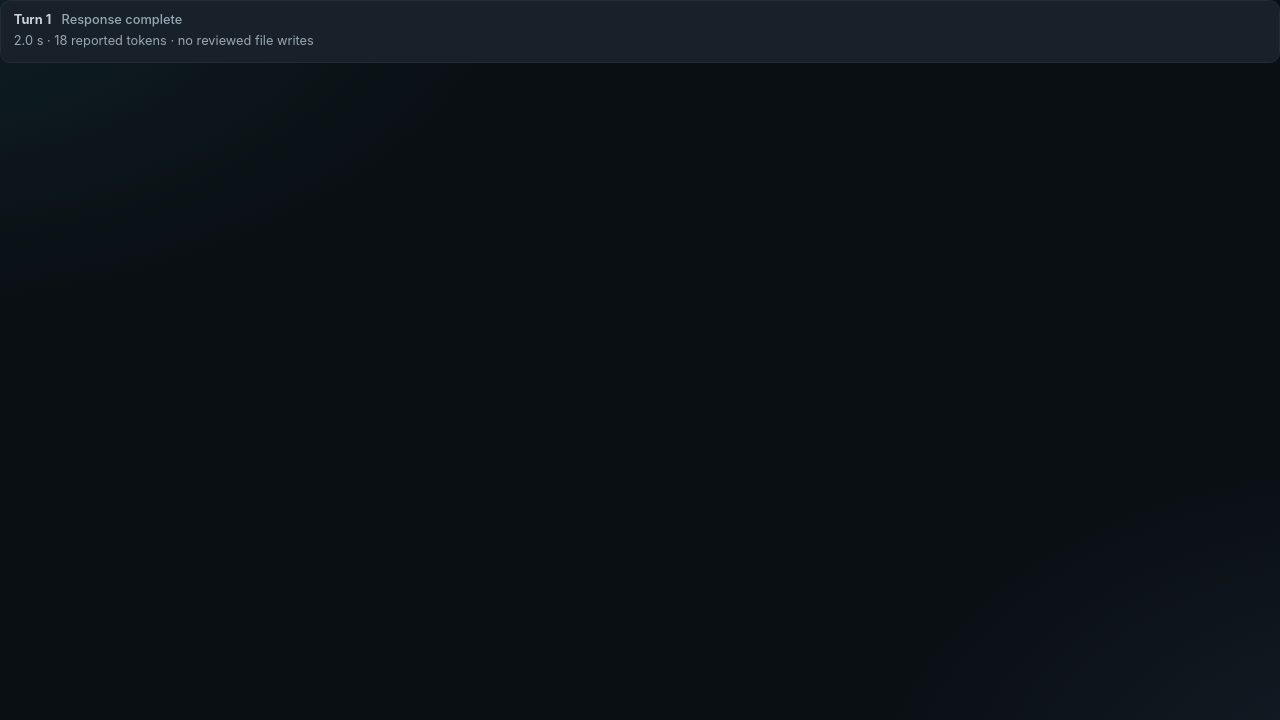
Test: AgentTurnDetails › makes the absence of a reviewed file output visible without expanding the receipt
The width and height of the screenshot is (1280, 720).
Click the heading named "Turn 1 details": click(164, 30) top-left (14, 12), bottom-right (314, 48)
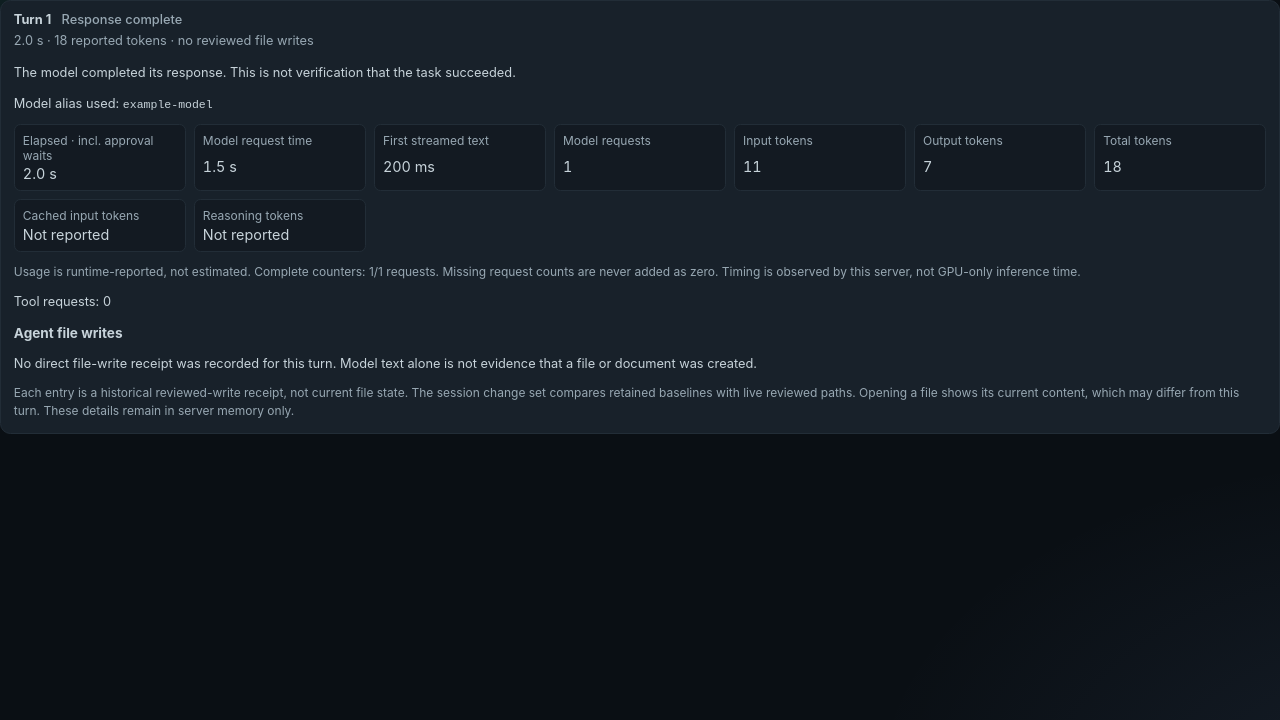
Now the text "Model text alone is not evidence that a file or document was created" is shown, box top-left (14, 356), bottom-right (757, 371)
